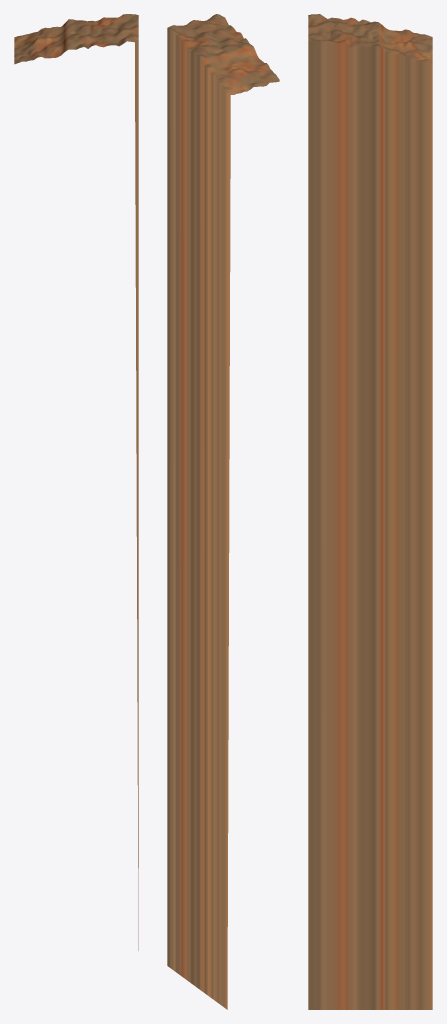
File: terrain-165.glb
3 views of the same model, side by side, from view 1: azimuth 90°, elevation 25°; view 2: azimuth 210°, elevation 25°; view 3: azimuth 270°, elevation 25° (orthographic). The views are drawn at different scales.
Visible parts, largest first — view 1: terrain-165; view 2: terrain-165; view 3: terrain-165.
Boxes of the visible parts, <box> form: terrain-165: <box>14,14,138,950</box>; terrain-165: <box>167,14,279,1009</box>; terrain-165: <box>308,14,432,1009</box>.
Size of the model in its own units: 128 by 2205 by 256.
